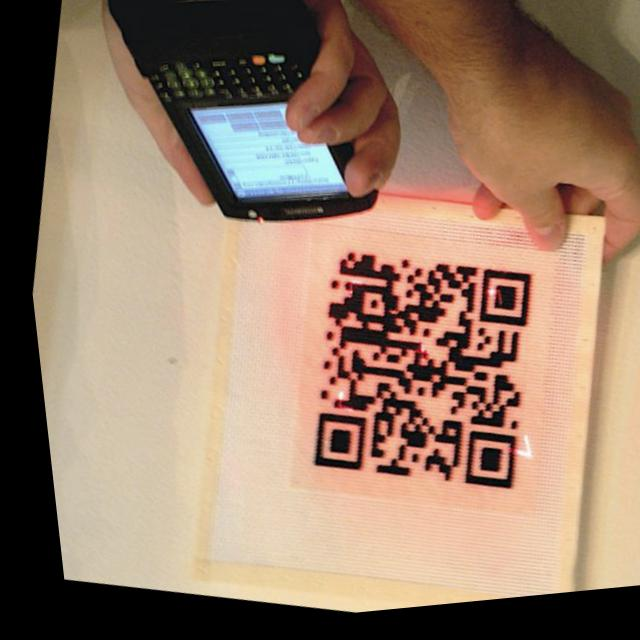qrcode: (284, 242, 543, 511)
